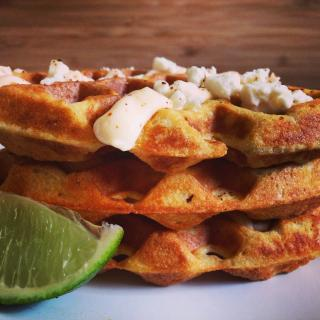Waffle: (0, 68, 319, 176), (1, 154, 320, 232), (95, 208, 320, 288)
